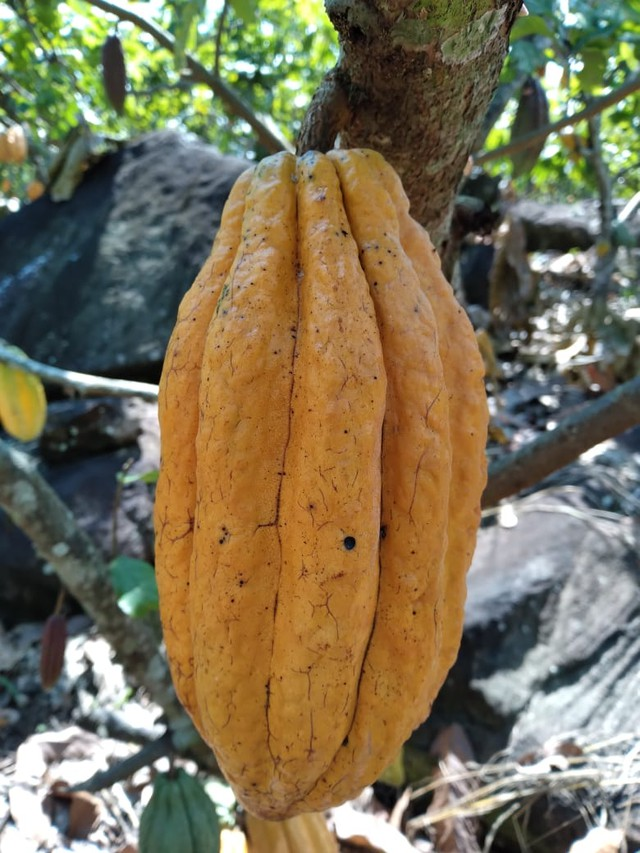Health: (146, 141, 485, 810)
